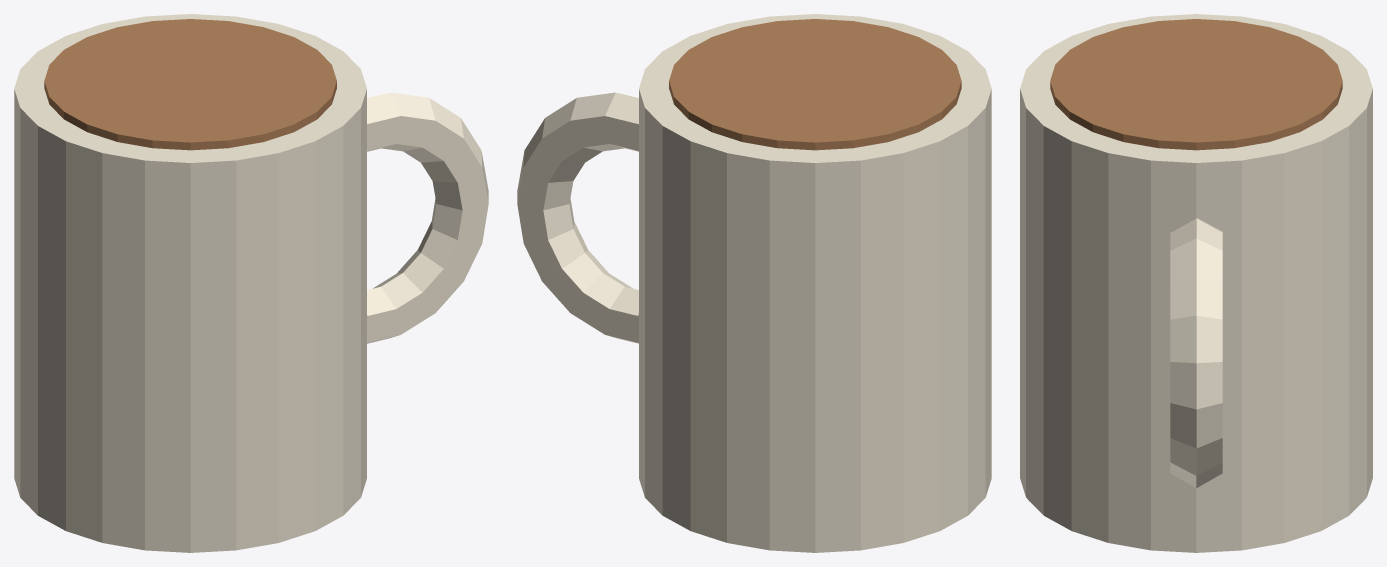
Rendered from mug.glb.
3 views of the same model, side by side, from view 1: azimuth 30°, elevation 25°; view 2: azimuth 150°, elevation 25°; view 3: azimuth 270°, elevation 25° (orthographic).
Visible parts, largest first — view 1: mug_Mesh; view 2: mug_Mesh; view 3: mug_Mesh.
Boxes of the visible parts, left/top/right/bottom form: mug_Mesh: left=14, top=14, right=488, bottom=552; mug_Mesh: left=517, top=14, right=991, bottom=552; mug_Mesh: left=1020, top=14, right=1372, bottom=552.
Size of the model in its own units: 0.121 by 0.102 by 0.082.
